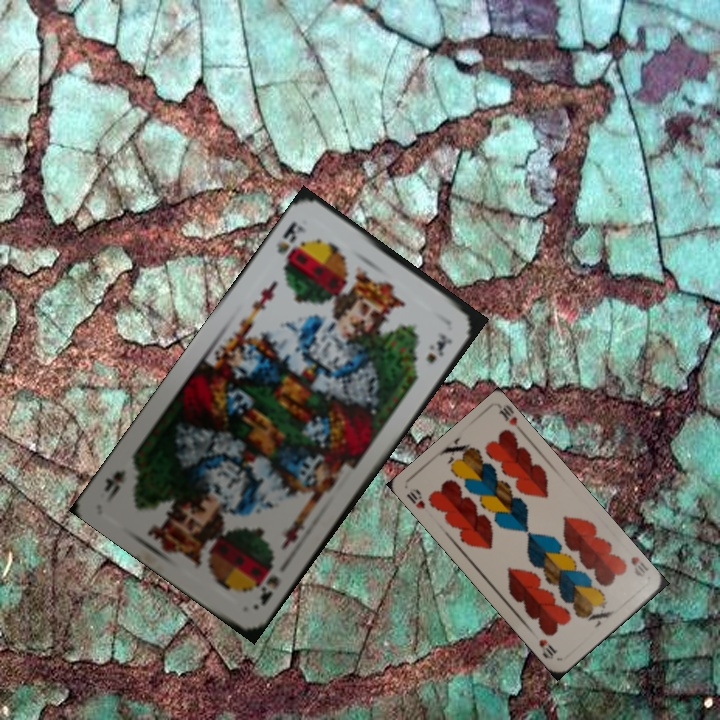H10: (402, 484, 428, 512), (627, 552, 650, 580)
SK: (271, 217, 308, 257), (256, 571, 283, 609)
